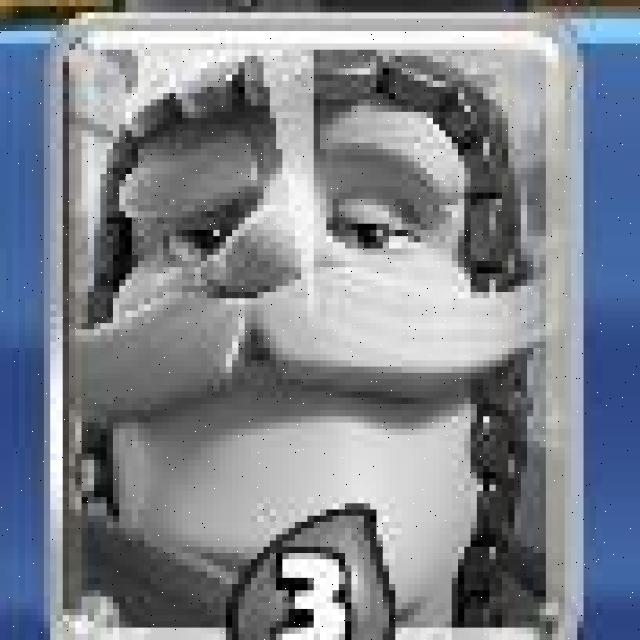Knight: (42, 8, 583, 640)
